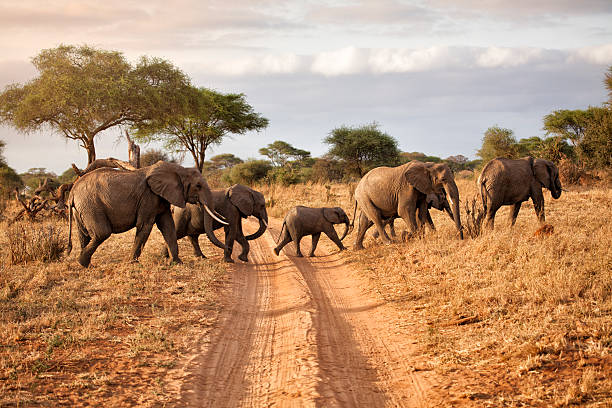elephant: (53, 162, 265, 272), (344, 156, 467, 252), (467, 142, 581, 234), (277, 195, 359, 263)
